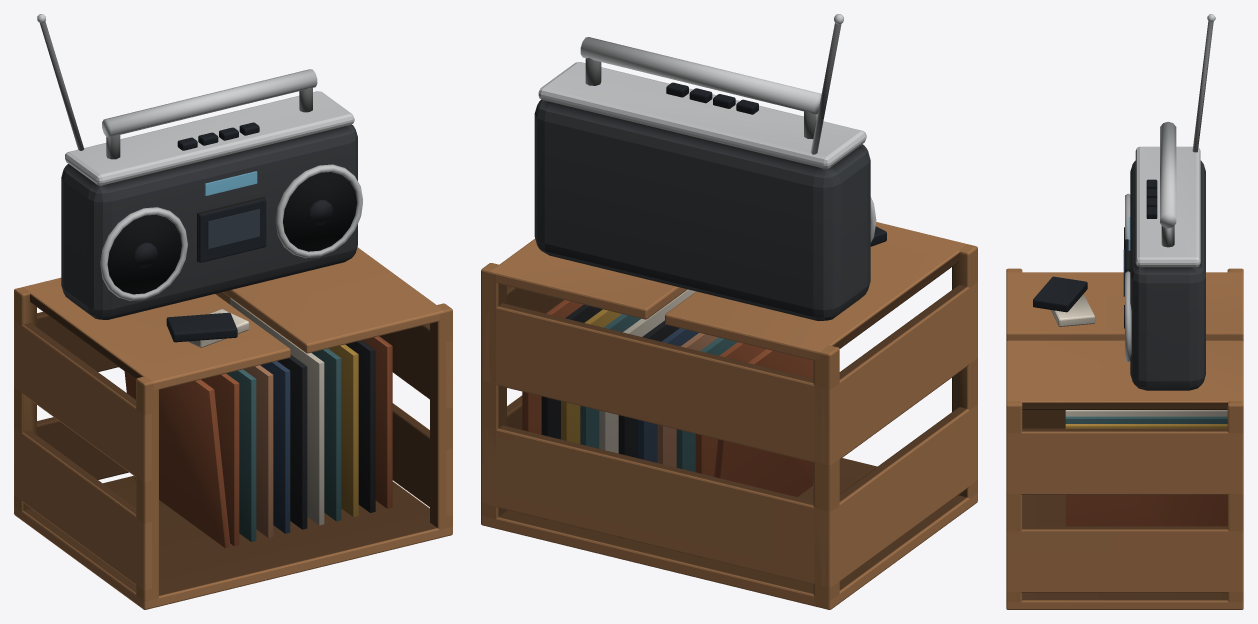
The model's file is boombox.glb.
The picture shows the model from 3 angles, left to right: view 1: azimuth 30°, elevation 25°; view 2: azimuth 150°, elevation 25°; view 3: azimuth 270°, elevation 25°; orthographic projection. The views are drawn at different scales.
Parts seen in each view (by area): view 1: boombox, door; view 2: boombox; view 3: boombox.
Part boxes in pixels (bbox=[...]): boombox: bbox=[14, 14, 452, 609]; door: bbox=[198, 198, 266, 262]; boombox: bbox=[481, 14, 977, 609]; boombox: bbox=[1006, 14, 1243, 609].
Size of the model in its own units: 0.6 by 0.948 by 0.44.
